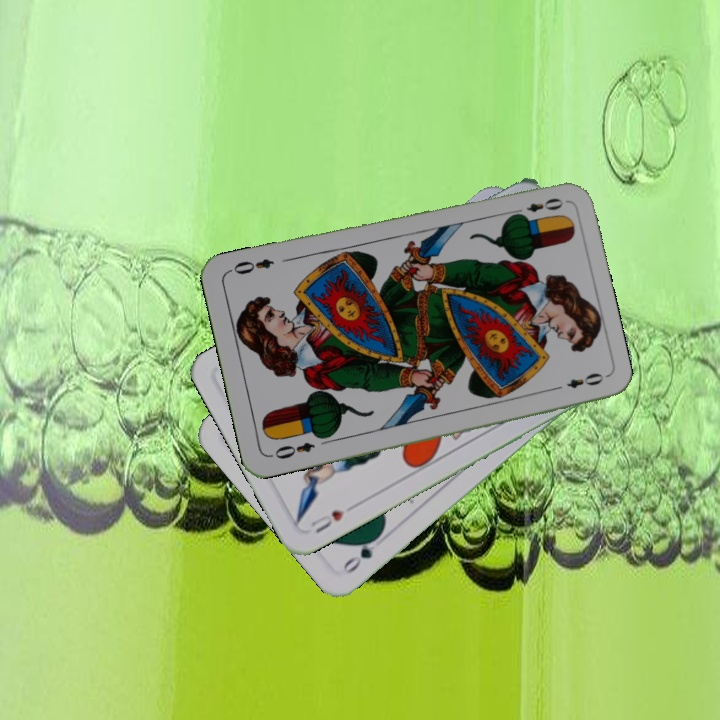EO: (509, 194, 566, 220), (270, 438, 317, 462)
GO: (337, 529, 384, 577)
HU: (306, 506, 348, 536)
